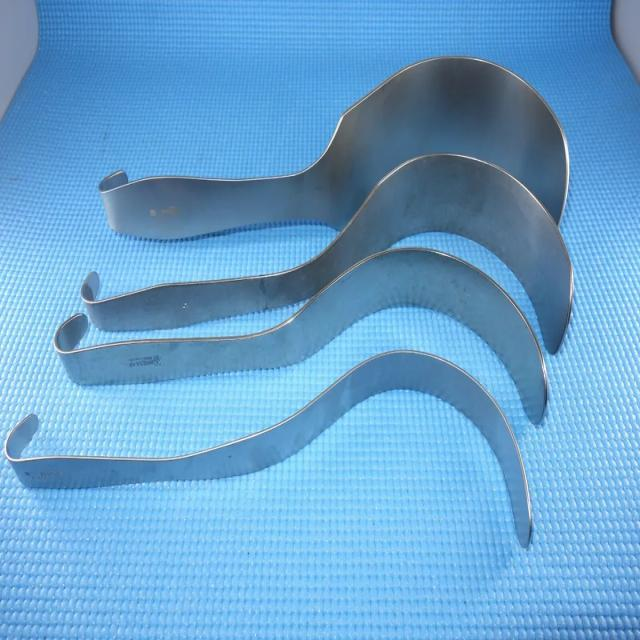Deaver Retractor: (83, 152, 632, 372), (0, 348, 575, 556), (44, 248, 614, 429), (75, 44, 592, 239)
